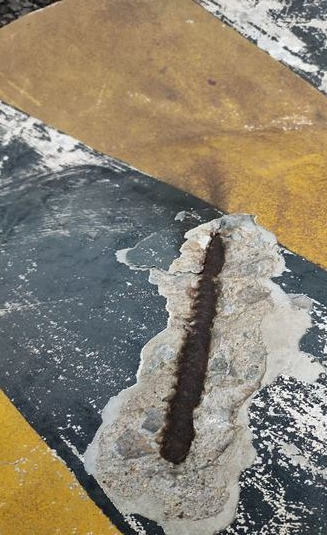Exposed reinforcement: (159, 232, 226, 465)
Spalling: (83, 213, 327, 535)
